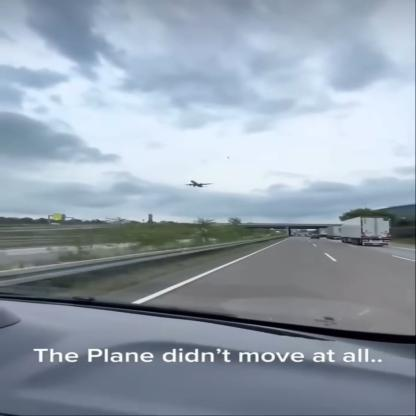plane: (179, 178, 218, 192)
